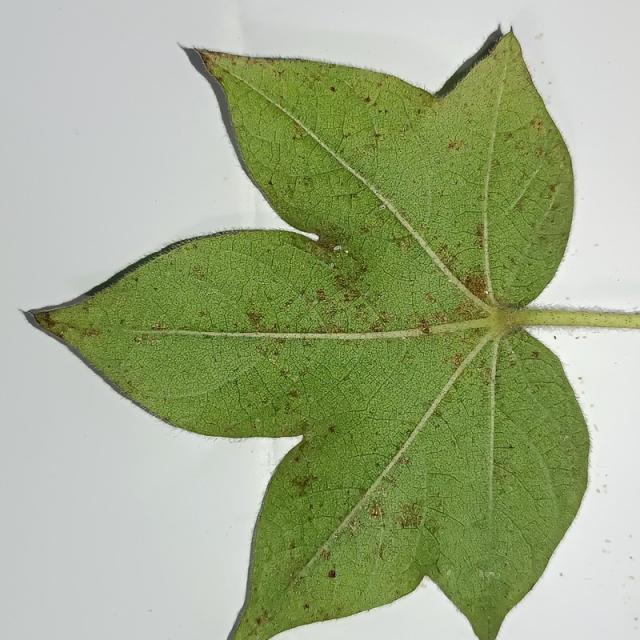Bacterial_Blight: (326, 92, 360, 148), (252, 338, 293, 362), (393, 95, 413, 132), (230, 376, 248, 416), (292, 472, 318, 493), (193, 287, 227, 301), (292, 448, 310, 468), (398, 513, 420, 529), (246, 312, 264, 329), (284, 572, 301, 590), (526, 348, 545, 364), (39, 313, 58, 329), (370, 127, 382, 151), (416, 319, 432, 335), (325, 422, 342, 436), (487, 40, 502, 55), (306, 297, 321, 311), (82, 327, 100, 338), (343, 290, 359, 302), (447, 139, 463, 151), (291, 128, 305, 141), (530, 118, 544, 131), (255, 613, 268, 626), (426, 524, 440, 535), (513, 300, 527, 311), (319, 549, 331, 561), (192, 265, 204, 277), (348, 518, 359, 531), (397, 455, 410, 466), (355, 312, 368, 323), (371, 321, 384, 332), (316, 289, 327, 301), (131, 335, 143, 345), (423, 293, 435, 303), (596, 484, 608, 494), (344, 78, 354, 90), (378, 546, 386, 561), (309, 232, 320, 242), (349, 352, 360, 362), (287, 389, 299, 398), (250, 280, 271, 285), (535, 148, 545, 157), (213, 75, 223, 84), (154, 322, 165, 330), (198, 310, 208, 318), (275, 337, 286, 344), (371, 507, 379, 516), (288, 541, 296, 550), (328, 570, 336, 579), (478, 569, 486, 577), (534, 33, 543, 40), (148, 338, 156, 345), (284, 301, 292, 308), (333, 531, 340, 539), (549, 184, 556, 192), (333, 245, 342, 251), (364, 96, 371, 103), (119, 318, 126, 325), (374, 132, 381, 139), (268, 179, 274, 187), (505, 132, 513, 138), (602, 549, 611, 554), (59, 329, 65, 336), (329, 86, 336, 92), (303, 603, 309, 610), (379, 204, 386, 210), (628, 575, 635, 581), (488, 571, 495, 577), (593, 424, 599, 431), (164, 416, 171, 422), (577, 376, 583, 382), (294, 456, 300, 462), (255, 418, 261, 424), (330, 262, 335, 269), (635, 305, 640, 312), (289, 572, 294, 578), (448, 278, 454, 283), (605, 539, 611, 544), (596, 488, 601, 493), (484, 290, 489, 295), (401, 336, 407, 340), (510, 350, 515, 354), (345, 250, 349, 255), (575, 335, 580, 339), (628, 534, 633, 538), (559, 572, 563, 577), (553, 335, 557, 340), (565, 296, 570, 300), (594, 243, 599, 247), (148, 609, 153, 613), (629, 556, 633, 560), (637, 617, 640, 622)
Cotton: (26, 36, 639, 639)
